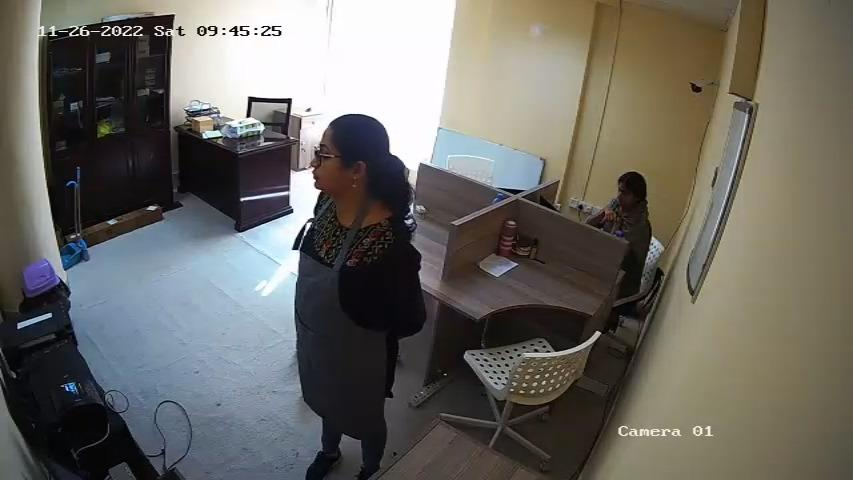apron: (299, 214, 392, 395)
